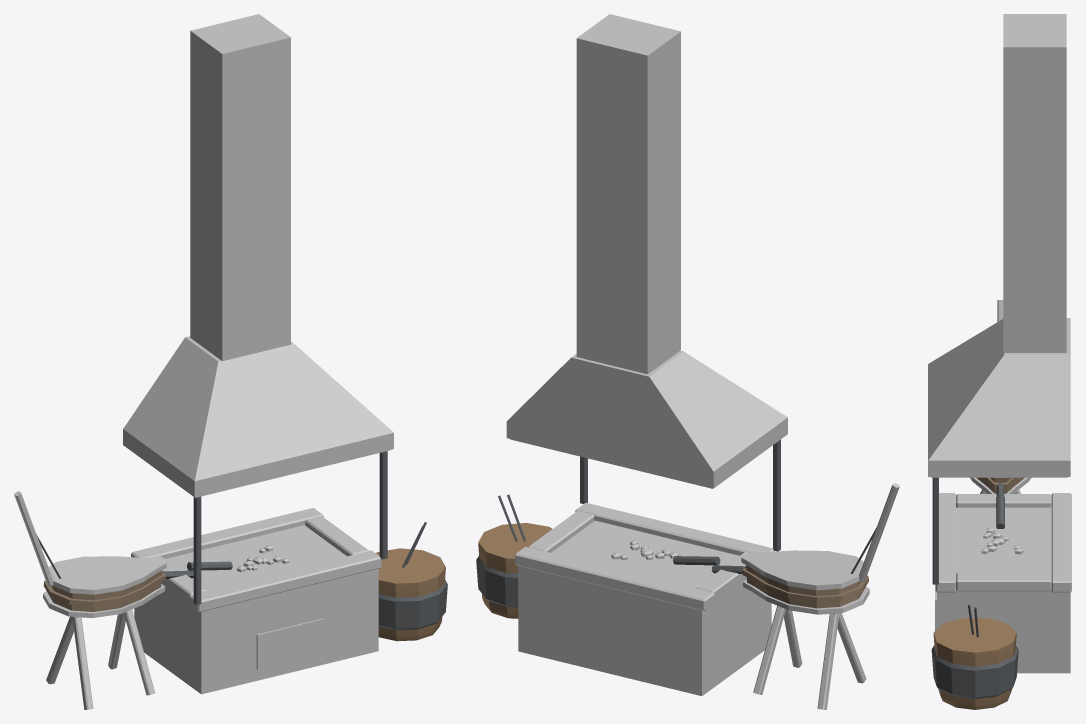
File: furn_forge.glb
The picture shows the model from 3 angles, left to right: view 1: azimuth 30°, elevation 25°; view 2: azimuth 150°, elevation 25°; view 3: azimuth 270°, elevation 25°; orthographic projection. The views are drawn at different scales.
Parts seen in each view (by area): view 1: furn_forge; view 2: furn_forge; view 3: furn_forge.
Part boxes in pixels (bbox=[...]): furn_forge: bbox=[14, 14, 447, 709]; furn_forge: bbox=[476, 14, 899, 709]; furn_forge: bbox=[928, 14, 1071, 709].
Size of the model in its own units: 3.74 by 5.21 by 1.13.
